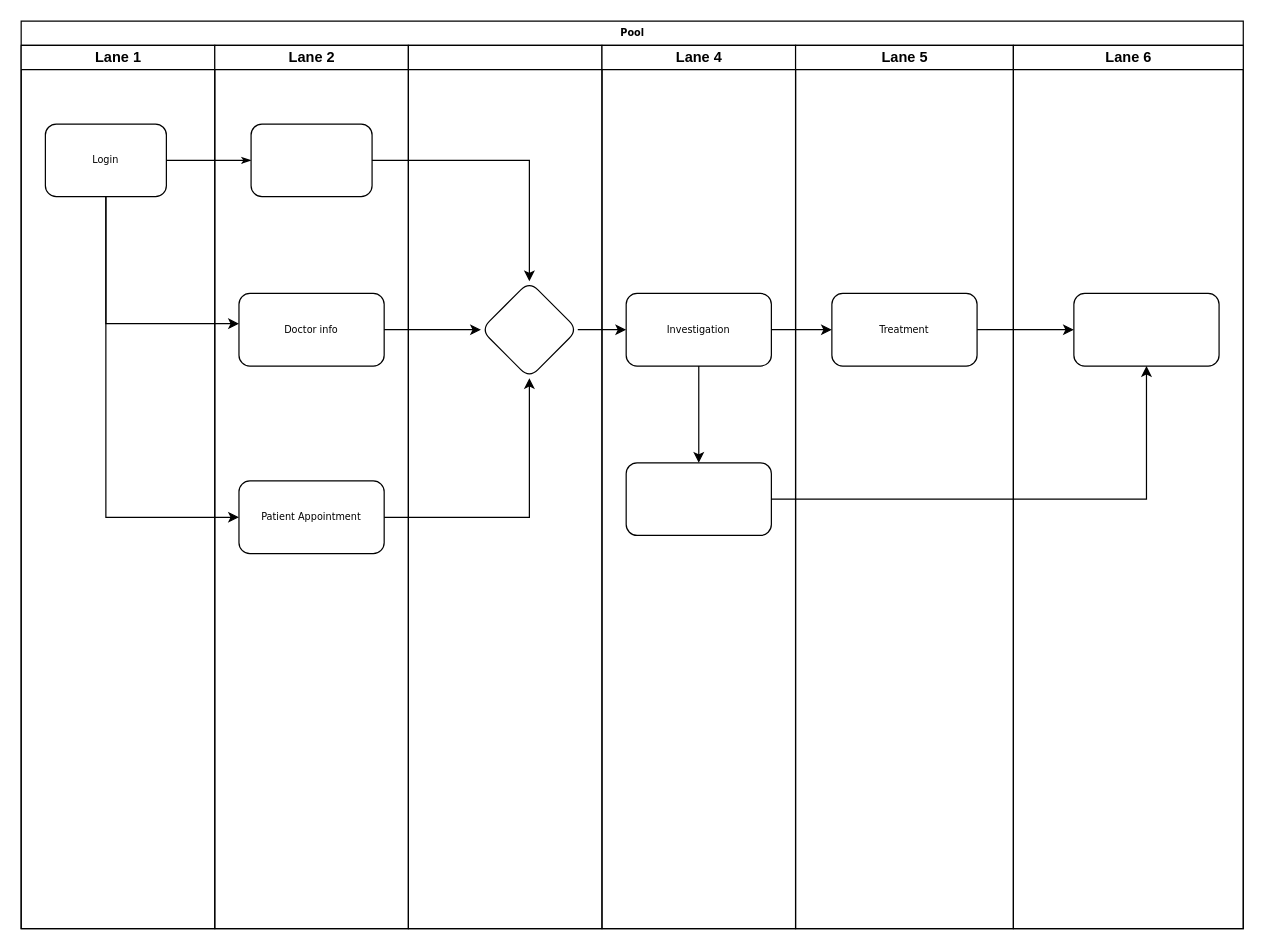
The diagram is 1264 pixels wide and 950 high, and some of its shapes have lost their labels. The box of each missing label's shape, as (x1, y1, x2, y2) in pixels:
Consultation: (480, 280, 578, 378)
Image Analysis: (625, 462, 771, 535)
Lane 3: (407, 44, 602, 929)
Patient info: (250, 123, 372, 197)
Patient Profile: (1073, 292, 1219, 366)
